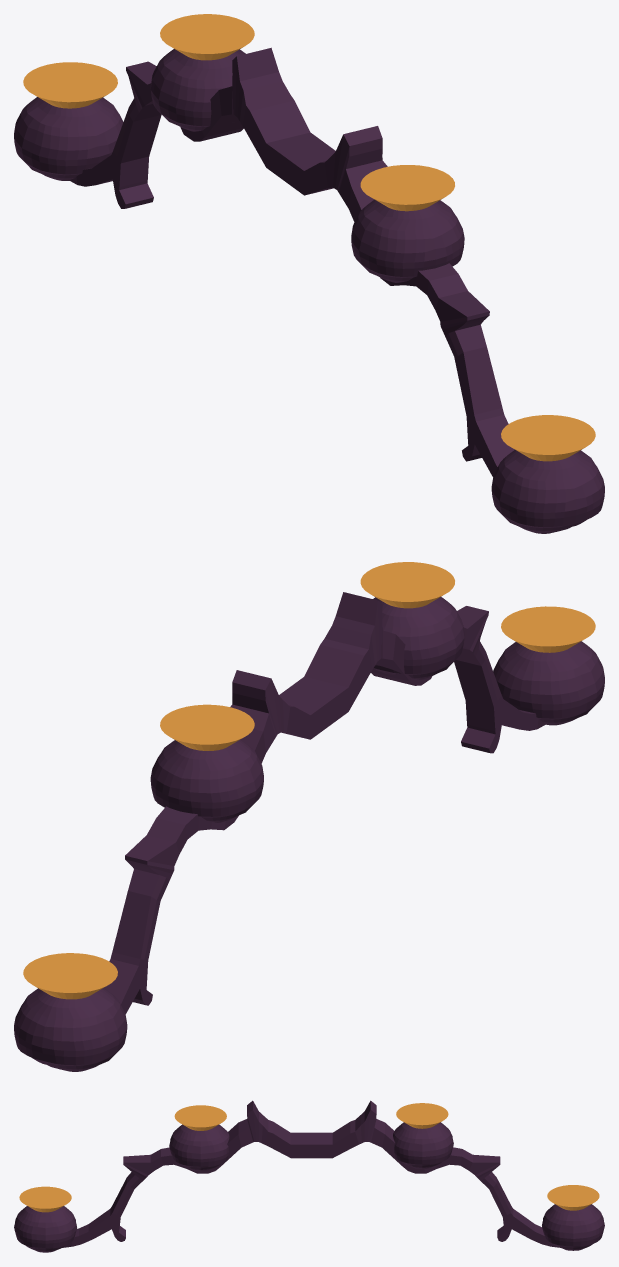
Rendered from CandleHolder_Prot_0.3_4c.fbx.
The picture shows the model from 3 angles, top to bottom: view 1: azimuth 30°, elevation 25°; view 2: azimuth 150°, elevation 25°; view 3: azimuth 270°, elevation 25°; orthographic projection. The views are drawn at different scales.
Visible parts, largest first — view 1: Cube.002, Sphere.015, Sphere.014, Sphere.016, Sphere.017, Base.014, Base.013, Base.015, Base.012; view 2: Cube.002, Sphere.016, Sphere.017, Sphere.015, Sphere.014, Base.013, Base.014, Base.015, Base.012; view 3: Cube.002, Sphere.016, Sphere.015, Sphere.017, Sphere.014, Base.013, Base.015, Base.014, Base.012.
Boxes of the visible parts, box(x1,y1,x2,y2) form: Cube.002: box(70, 47, 514, 476); Sphere.015: box(491, 450, 604, 533); Sphere.014: box(351, 199, 464, 282); Sphere.016: box(14, 97, 123, 180); Sphere.017: box(150, 49, 245, 131); Base.014: box(23, 62, 117, 108); Base.013: box(501, 415, 595, 461); Base.015: box(160, 14, 254, 60); Base.012: box(360, 165, 454, 211); Cube.002: box(104, 592, 546, 1013); Sphere.016: box(14, 988, 127, 1071); Sphere.017: box(150, 739, 263, 822); Sphere.015: box(493, 641, 604, 725); Sphere.014: box(373, 597, 464, 679); Base.013: box(501, 606, 595, 652); Base.014: box(23, 953, 117, 999); Base.015: box(160, 704, 254, 750); Base.012: box(360, 562, 454, 608); Cube.002: box(62, 1100, 560, 1247); Sphere.016: box(542, 1204, 604, 1250); Sphere.015: box(14, 1206, 76, 1252); Sphere.017: box(393, 1122, 453, 1168); Sphere.014: box(169, 1124, 229, 1171); Base.013: box(19, 1186, 71, 1212); Base.015: box(396, 1103, 448, 1128); Base.014: box(547, 1185, 599, 1210); Base.012: box(174, 1105, 226, 1130).
Bounding box in the file's own units: 41.48 × 105 × 394.
